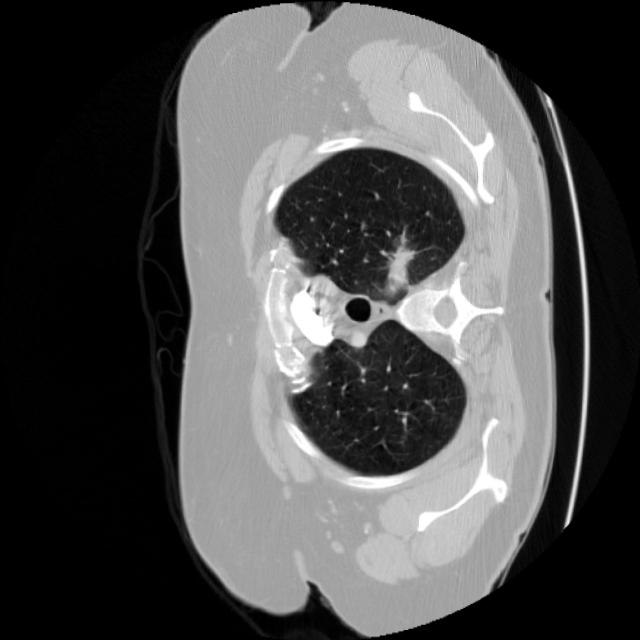nodule: (364, 229, 434, 298)
